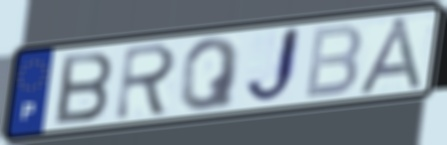A: (354, 14, 429, 97)
B: (302, 22, 365, 102), (53, 49, 116, 127)
J: (242, 24, 304, 108)
Q: (178, 35, 243, 113)
R: (112, 40, 180, 123)
